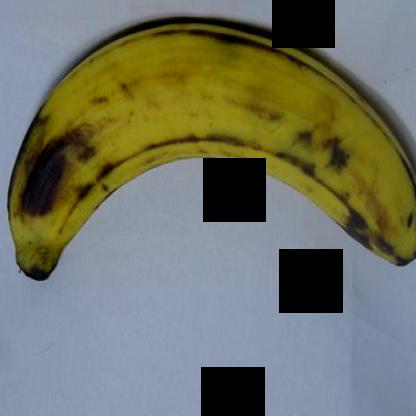ripe: (6, 24, 415, 292)
